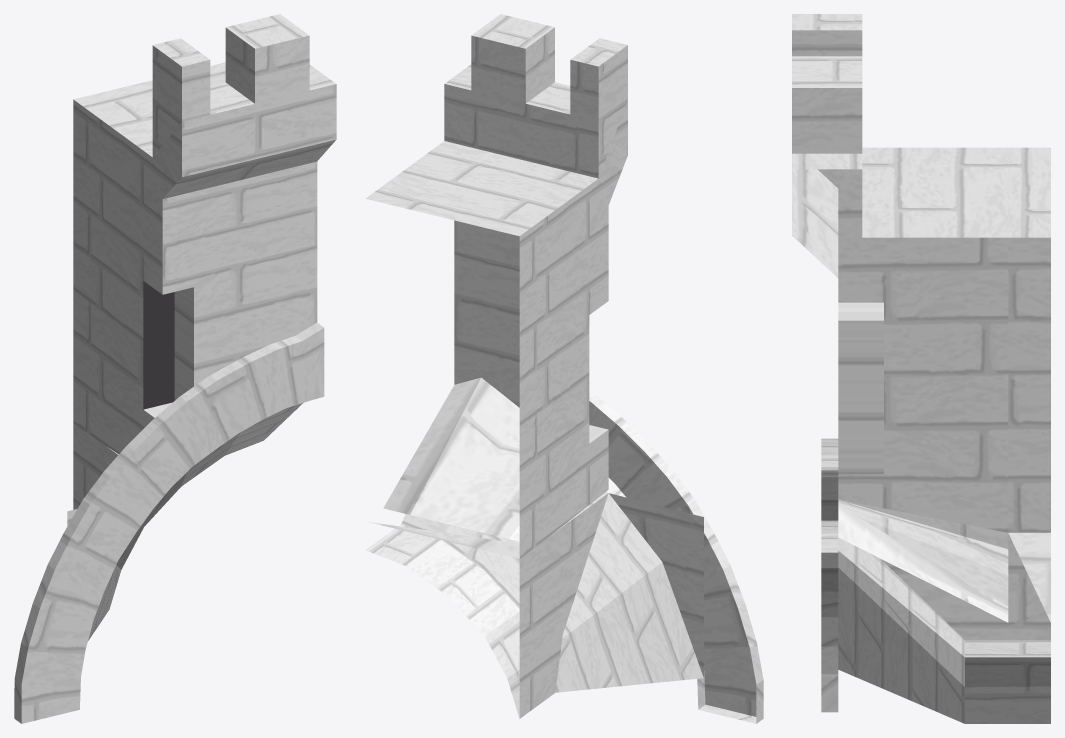
Rendered from castle_type_c.gltf.
3 renders of one model, left to right at view 1: azimuth 30°, elevation 25°; view 2: azimuth 150°, elevation 25°; view 3: azimuth 270°, elevation 25°, orthographic. The views are drawn at different scales.
Visible parts, largest first — view 1: Type_C; view 2: Type_C; view 3: Type_C.
Part boxes in pixels (<box>): Type_C: <box>14,14,336,723</box>; Type_C: <box>366,14,763,723</box>; Type_C: <box>792,14,1050,723</box>.
Size of the model in its own units: 0.9795 by 1.95 by 0.6085.
Materials: 2 (1 with a texture image).
